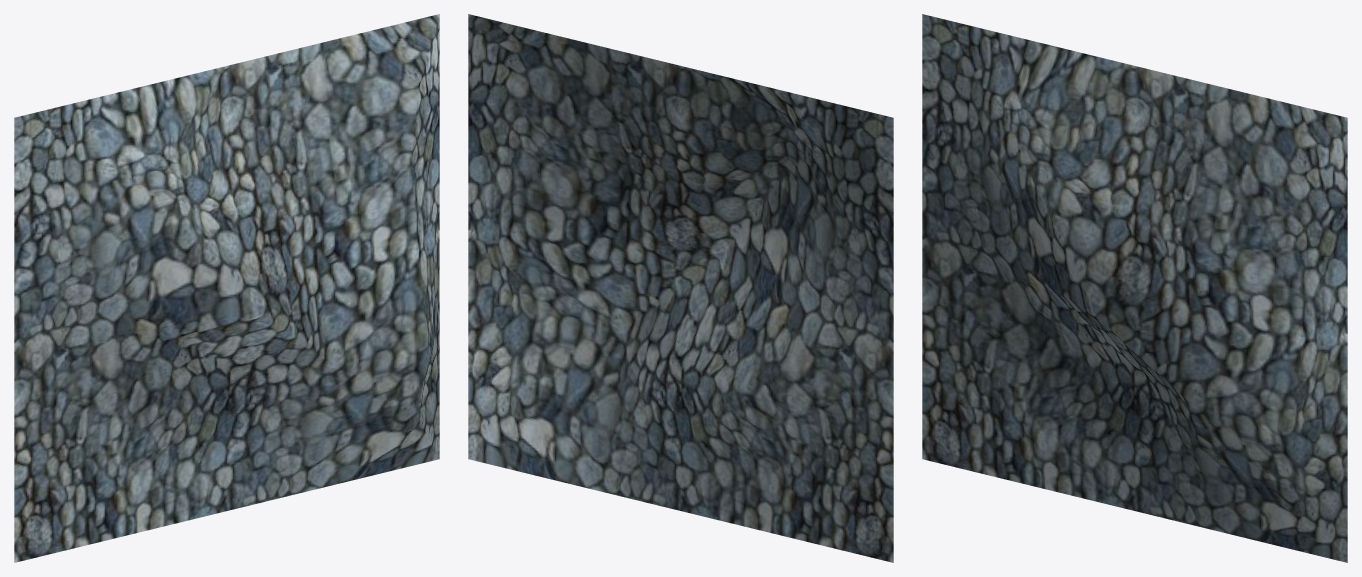
File: ground_steep_2.obj
3 renders of one model, left to right at view 1: azimuth 30°, elevation 25°; view 2: azimuth 150°, elevation 25°; view 3: azimuth 330°, elevation 25°, orthographic.
Size of the model in its own units: 2 by 2 by 0.3367.
